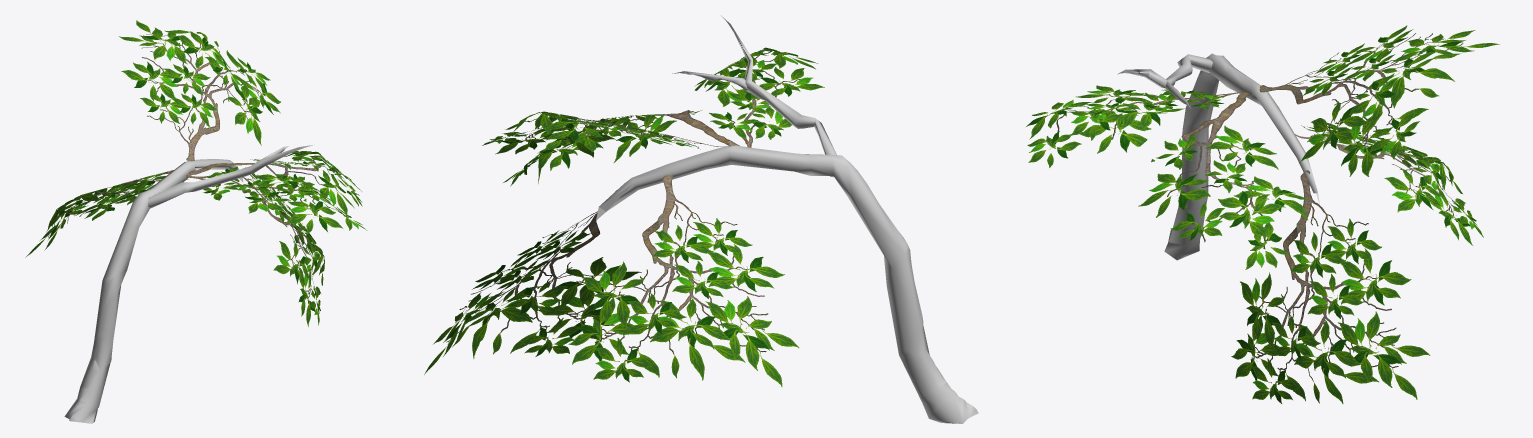
File: Branch_9.FBX
The picture shows the model from 3 angles, left to right: view 1: azimuth 30°, elevation 25°; view 2: azimuth 150°, elevation 25°; view 3: azimuth 270°, elevation 25°; orthographic projection. The views are drawn at different scales.
Parts seen in each view (by area): view 1: Object004; view 2: Object004; view 3: Object004.
Part boxes in pixels (x1,y1,x2,y2): Object004: (25,20,367,423); Object004: (424,16,978,423); Object004: (1026,25,1499,403).
Size of the model in its own units: 206 by 160 by 223.
